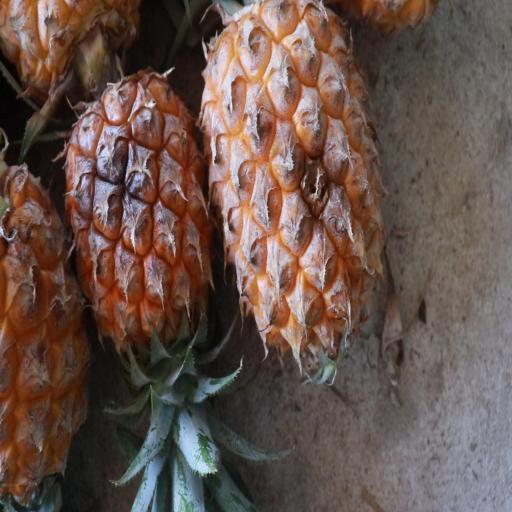Pineapple - v8 v1: (196, 0, 389, 375), (60, 61, 218, 366), (0, 160, 95, 512), (3, 492, 6, 497)
